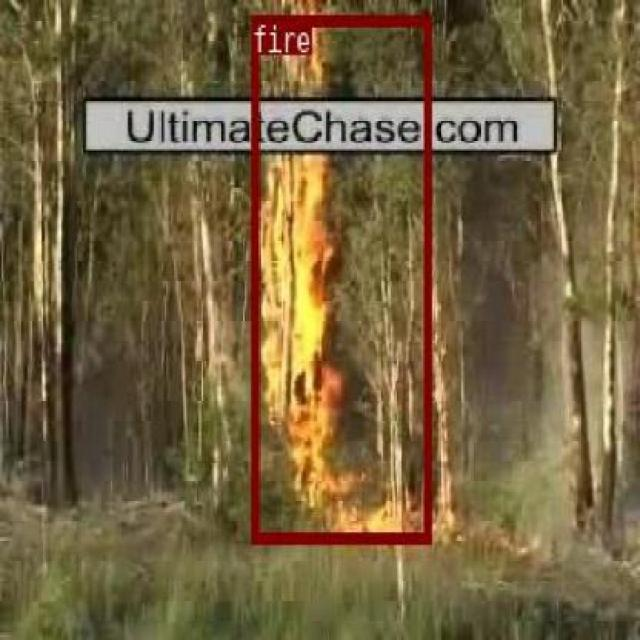Fire: (250, 13, 428, 541)
